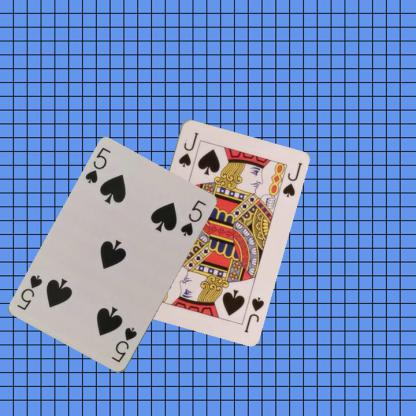5s: (108, 324, 138, 364), (82, 145, 112, 185)
Js: (242, 293, 265, 334), (176, 129, 200, 168)
